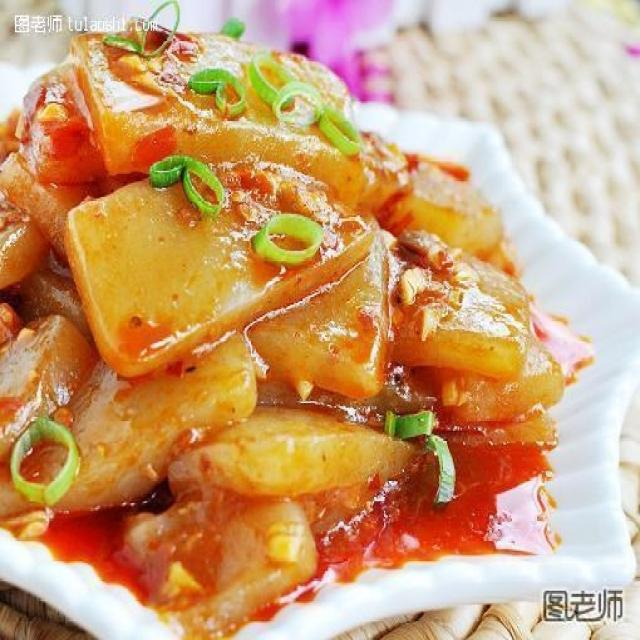豆腐料理: (4, 26, 597, 620)
